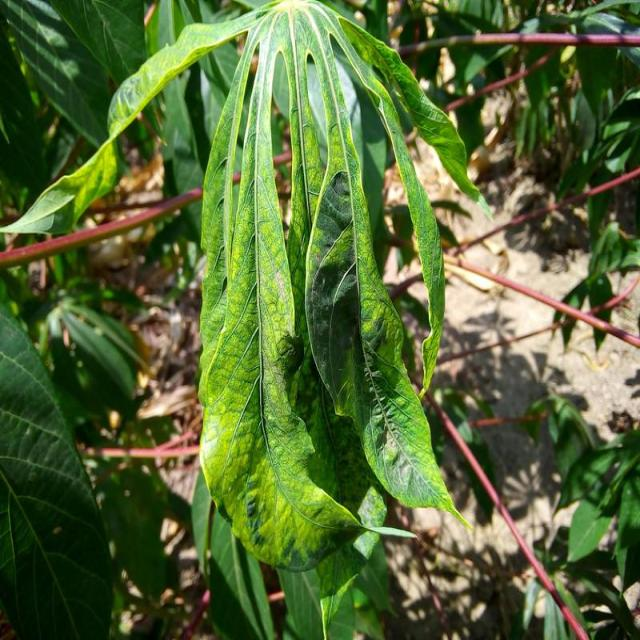Mosaico: (108, 3, 462, 560)
